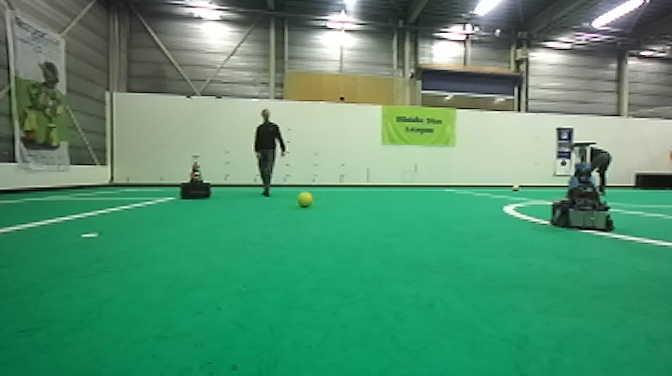ball: (295, 189, 315, 209), (510, 182, 522, 194)
human: (248, 103, 289, 199), (572, 141, 613, 190)
robot: (549, 139, 616, 232), (177, 153, 215, 201)
